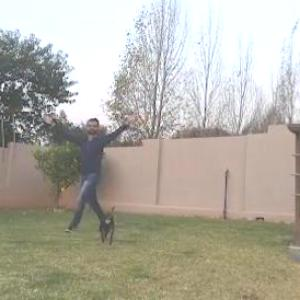takeoff: (76, 102, 178, 230)
